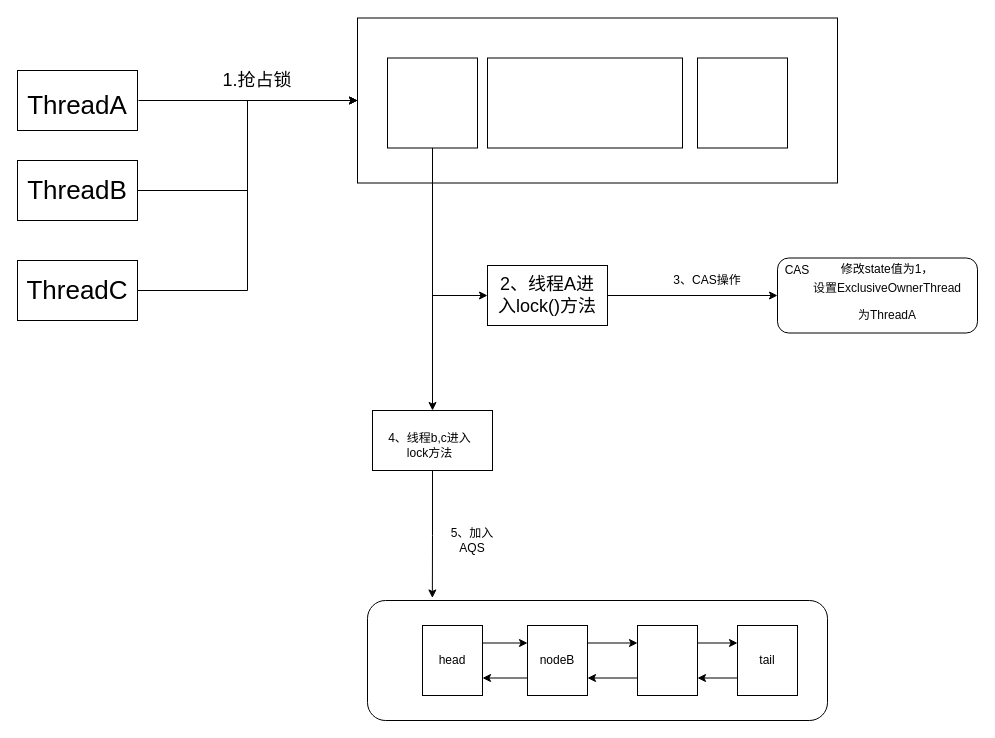
This 995x738 diagram has some shape labels left out. Each missing label, with the centre of its shape:
"Lock" goes at (432,102).
"nodeC" goes at (667,660).
"unLock" goes at (742,102).
"代码块" goes at (584,102).
